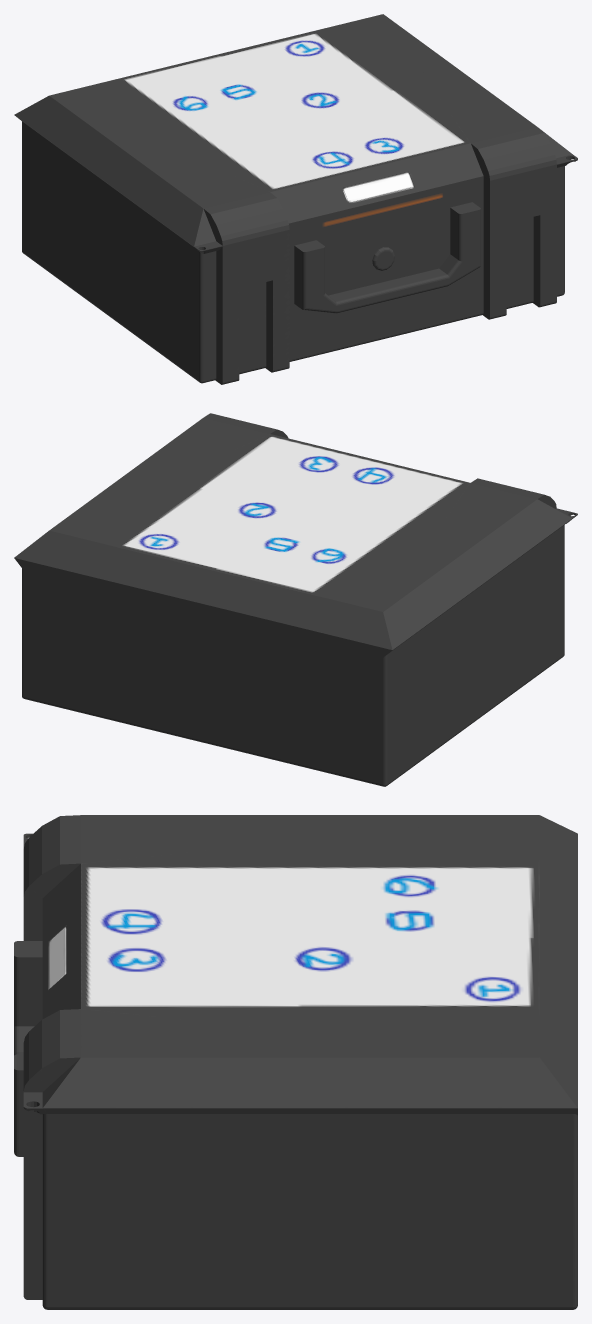
3 renders of one model, top to bottom at view 1: azimuth 30°, elevation 25°; view 2: azimuth 150°, elevation 25°; view 3: azimuth 270°, elevation 25°, orthographic. The views are drawn at different scales.
Parts seen in each view (by area): view 1: node_id5; view 2: node_id5; view 3: node_id5.
Part boxes in pixels (x1,y1,x2,y2): node_id5: (14,14,577,384); node_id5: (14,413,577,786); node_id5: (14,815,577,1309).
Size of the model in its own units: 0.512 by 0.2108 by 0.4442.
Materials: 1 (1 with a texture image).
